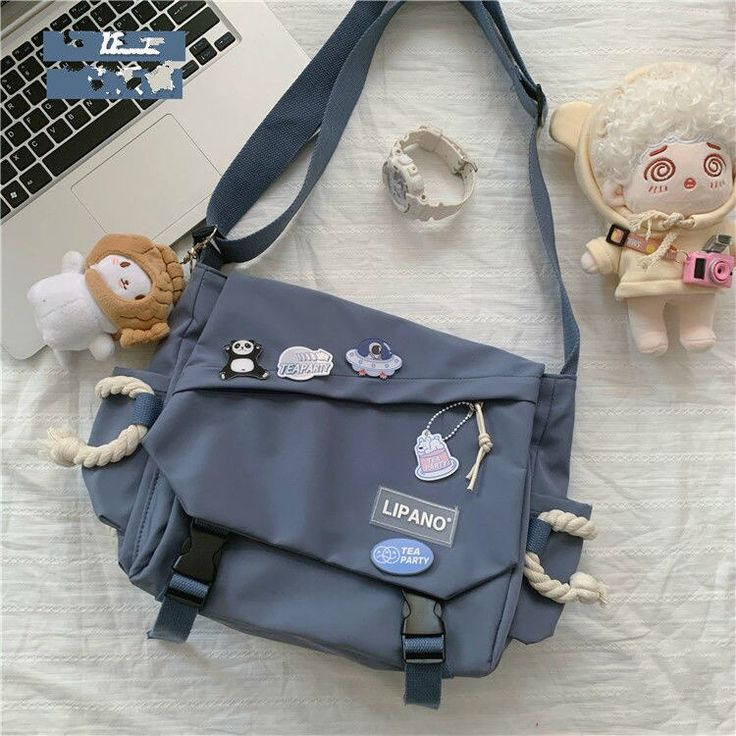nylon: (77, 2, 594, 711)
